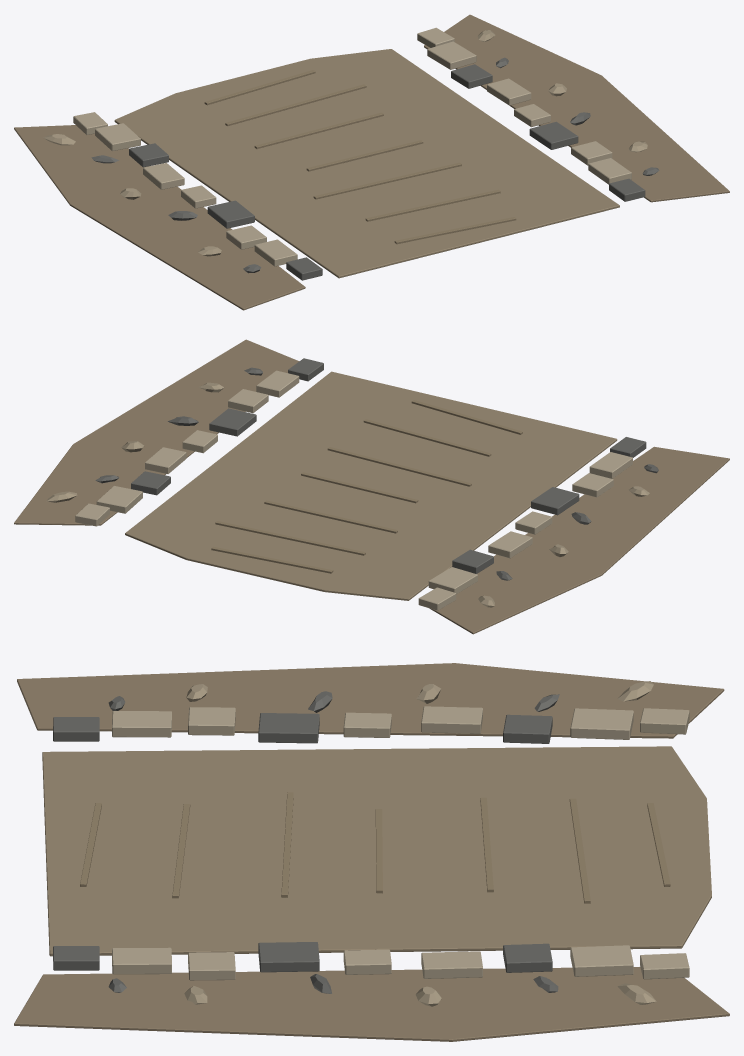
File: forecourt-approach-edges.glb
3 views of the same model, one above another, from view 1: azimuth 30°, elevation 25°; view 2: azimuth 150°, elevation 25°; view 3: azimuth 270°, elevation 25° (orthographic). The views are drawn at different scales.
Visible parts, largest first — view 1: forecourt_approach_packed_core, forecourt_approach_left_shelf, forecourt_approach_right_shelf, forecourt_approach_curb_r_3, forecourt_approach_curb_r_7, forecourt_approach_curb_l_3, forecourt_approach_curb_l_7, forecourt_approach_curb_r_5, forecourt_approach_curb_l_5, forecourt_approach_curb_l_1, forecourt_approach_curb_r_1, forecourt_approach_curb_r_6 (+16 smaller); view 2: forecourt_approach_packed_core, forecourt_approach_left_shelf, forecourt_approach_right_shelf, forecourt_approach_curb_l_3, forecourt_approach_curb_r_3, forecourt_approach_curb_l_7, forecourt_approach_curb_r_7, forecourt_approach_curb_l_5, forecourt_approach_curb_r_1, forecourt_approach_curb_l_1, forecourt_approach_curb_r_5, forecourt_approach_curb_l_2 (+16 smaller); view 3: forecourt_approach_packed_core, forecourt_approach_right_shelf, forecourt_approach_left_shelf, forecourt_approach_curb_r_7, forecourt_approach_curb_l_7, forecourt_approach_curb_l_3, forecourt_approach_curb_r_3, forecourt_approach_curb_r_5, forecourt_approach_curb_l_5, forecourt_approach_curb_l_1, forecourt_approach_curb_r_1, forecourt_approach_curb_r_6 (+16 smaller).
Part boxes in pixels (x1,y1,x2,y2): forecourt_approach_packed_core: (114, 49, 619, 278); forecourt_approach_left_shelf: (14, 125, 305, 310); forecourt_approach_right_shelf: (424, 14, 729, 202); forecourt_approach_curb_r_3: (529, 121, 578, 149); forecourt_approach_curb_r_7: (427, 41, 476, 69); forecourt_approach_curb_l_3: (207, 200, 254, 228); forecourt_approach_curb_l_7: (95, 123, 140, 150); forecourt_approach_curb_r_5: (487, 78, 531, 105); forecourt_approach_curb_l_5: (143, 163, 184, 189); forecourt_approach_curb_l_1: (254, 239, 297, 266); forecourt_approach_curb_r_1: (588, 158, 631, 184); forecourt_approach_curb_r_6: (451, 64, 492, 88); forecourt_approach_packed_core: (125, 371, 617, 600); forecourt_approach_left_shelf: (429, 446, 729, 634); forecourt_approach_right_shelf: (14, 339, 299, 525); forecourt_approach_curb_l_3: (531, 487, 579, 515); forecourt_approach_curb_r_3: (209, 408, 256, 436); forecourt_approach_curb_l_7: (428, 567, 477, 594); forecourt_approach_curb_r_7: (96, 486, 142, 513); forecourt_approach_curb_l_5: (488, 531, 532, 558); forecourt_approach_curb_r_1: (256, 370, 299, 397); forecourt_approach_curb_l_1: (589, 452, 632, 478); forecourt_approach_curb_r_5: (145, 447, 186, 473); forecourt_approach_curb_l_2: (572, 473, 613, 497); forecourt_approach_packed_core: (42, 746, 711, 956); forecourt_approach_right_shelf: (14, 967, 729, 1041); forecourt_approach_left_shelf: (17, 663, 724, 738); forecourt_approach_curb_r_7: (570, 945, 633, 976); forecourt_approach_curb_l_7: (570, 708, 633, 739); forecourt_approach_curb_l_3: (258, 713, 319, 743); forecourt_approach_curb_r_3: (258, 942, 319, 972); forecourt_approach_curb_r_5: (421, 951, 482, 978); forecourt_approach_curb_l_5: (421, 706, 482, 733); forecourt_approach_curb_l_1: (112, 711, 171, 737); forecourt_approach_curb_r_1: (112, 947, 171, 974); forecourt_approach_curb_r_6: (503, 943, 552, 972).
Bounding box in the file's own units: 12.24 × 0.2701 × 9.83.
